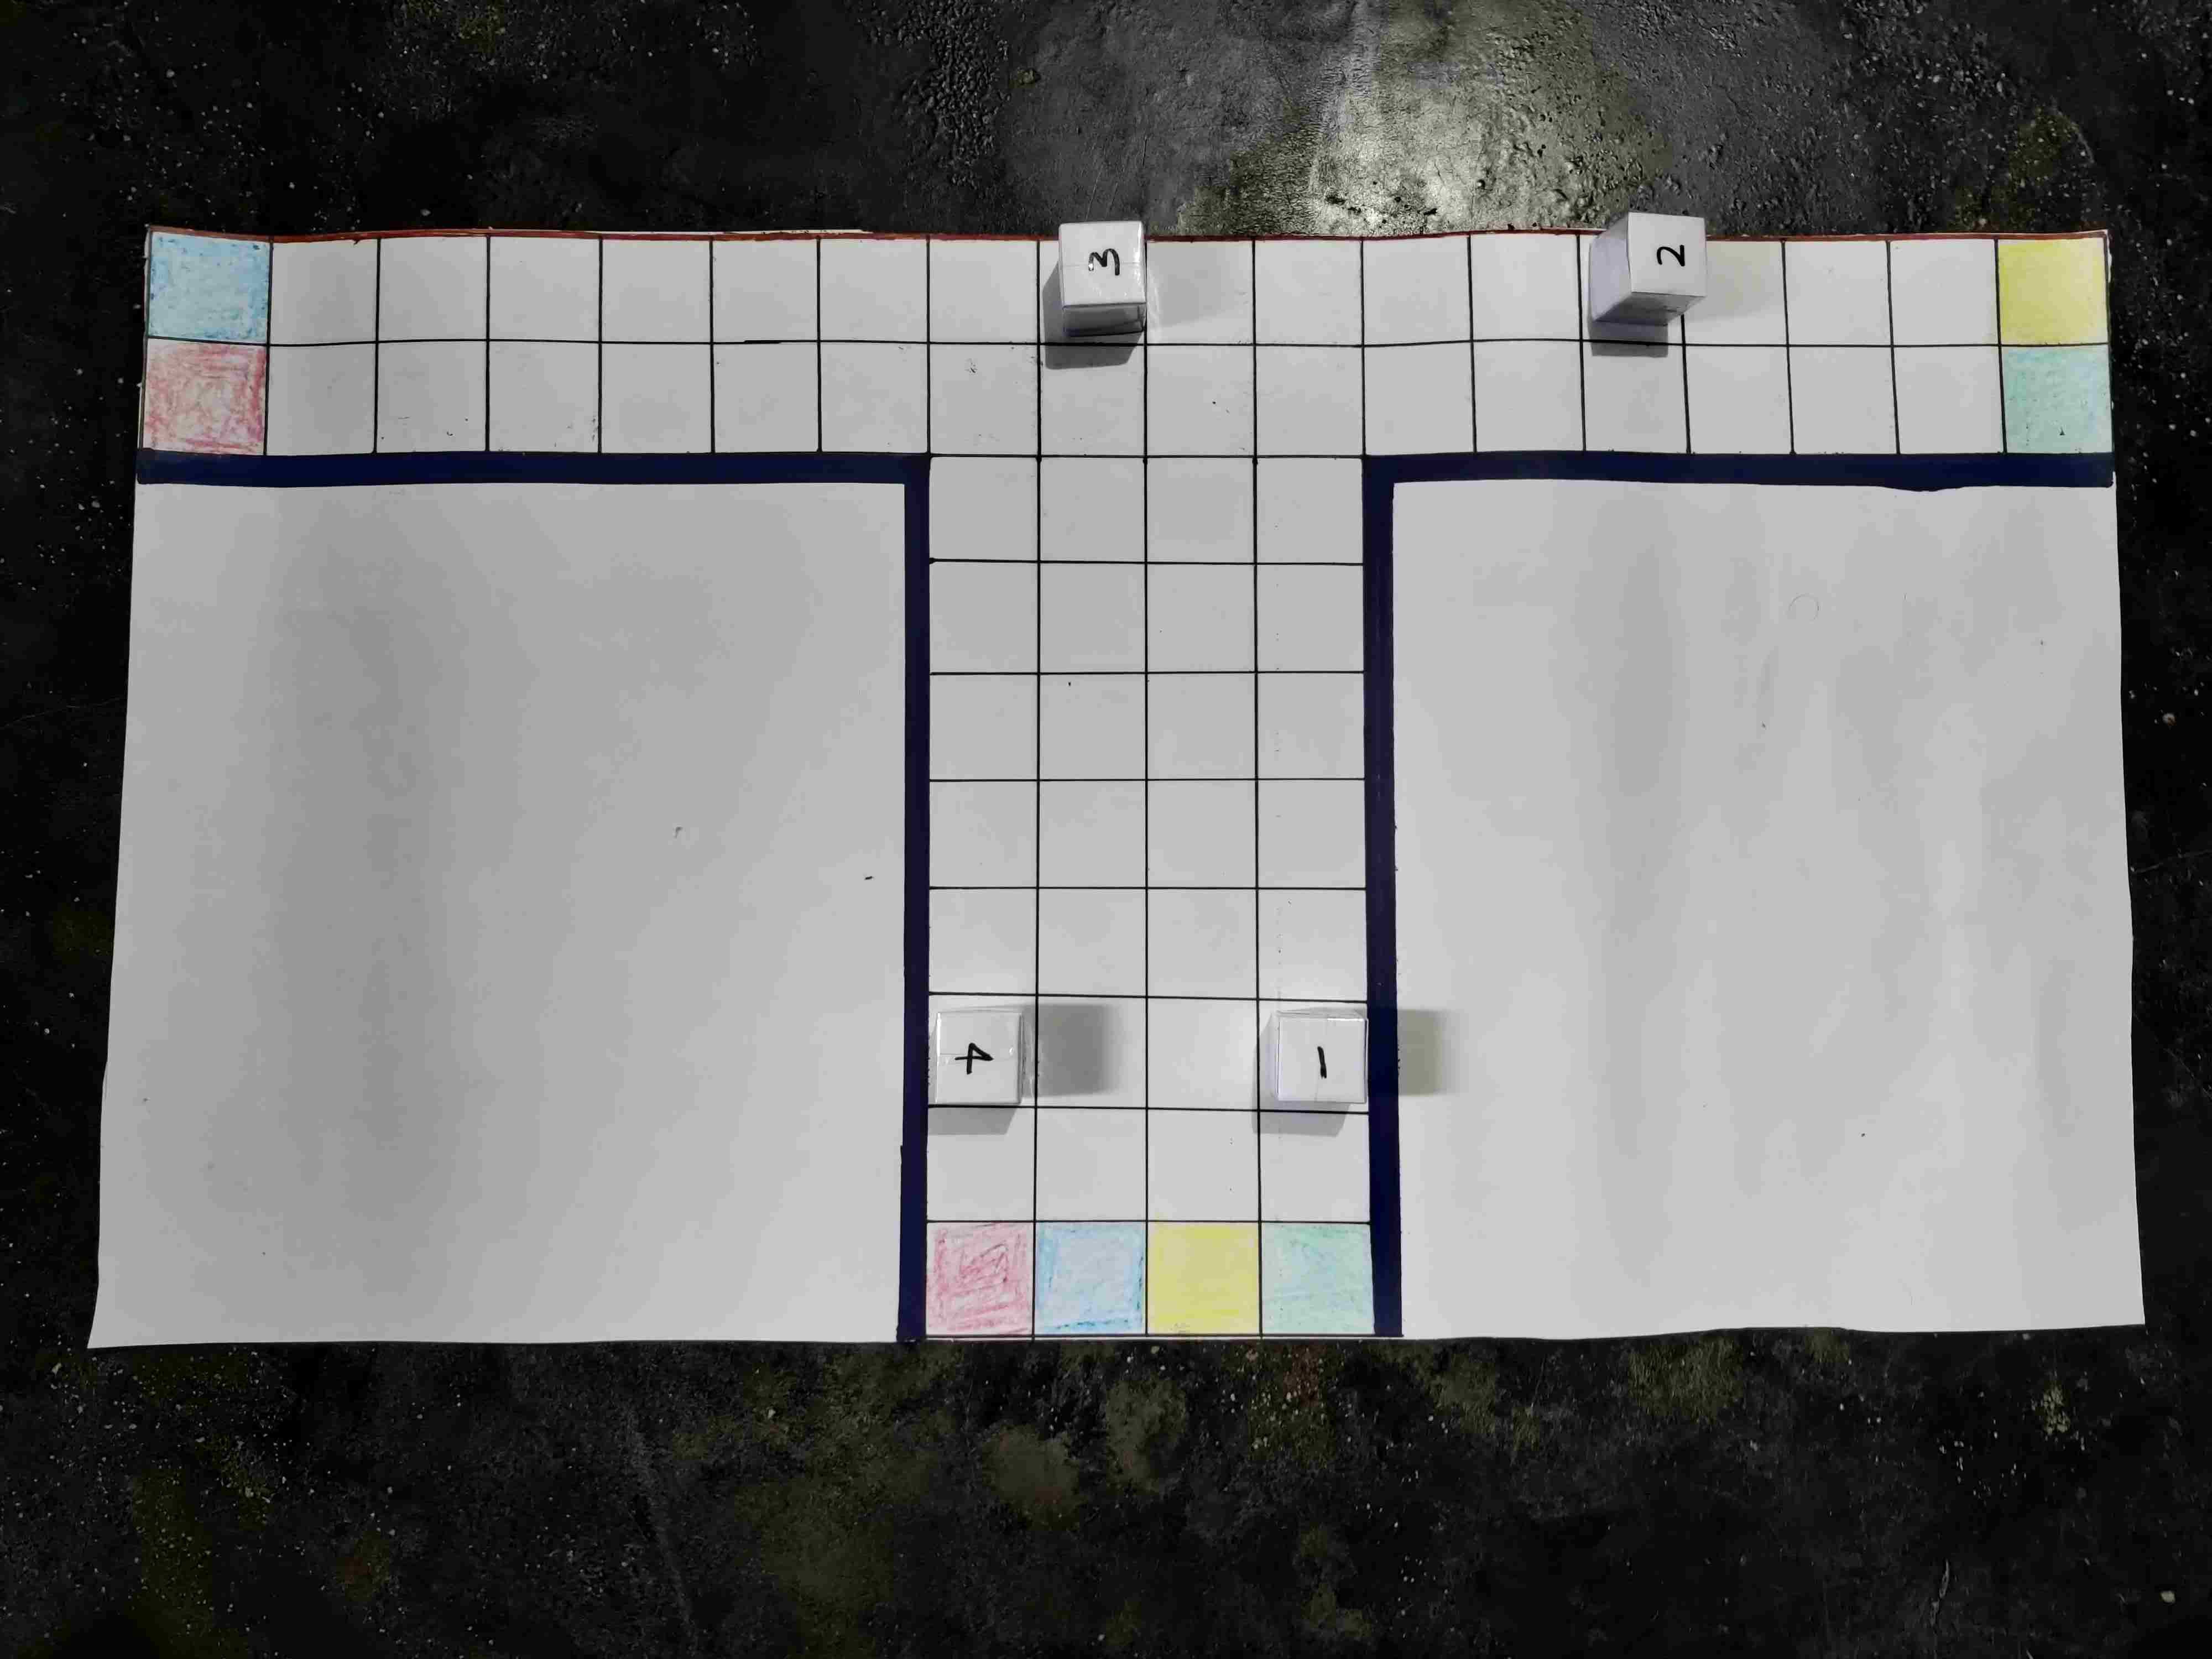arena: (138, 235, 2104, 1331)
bot: (941, 1016, 1019, 1112), (1062, 221, 1146, 305), (1280, 1021, 1367, 1098), (1630, 216, 1707, 298)
